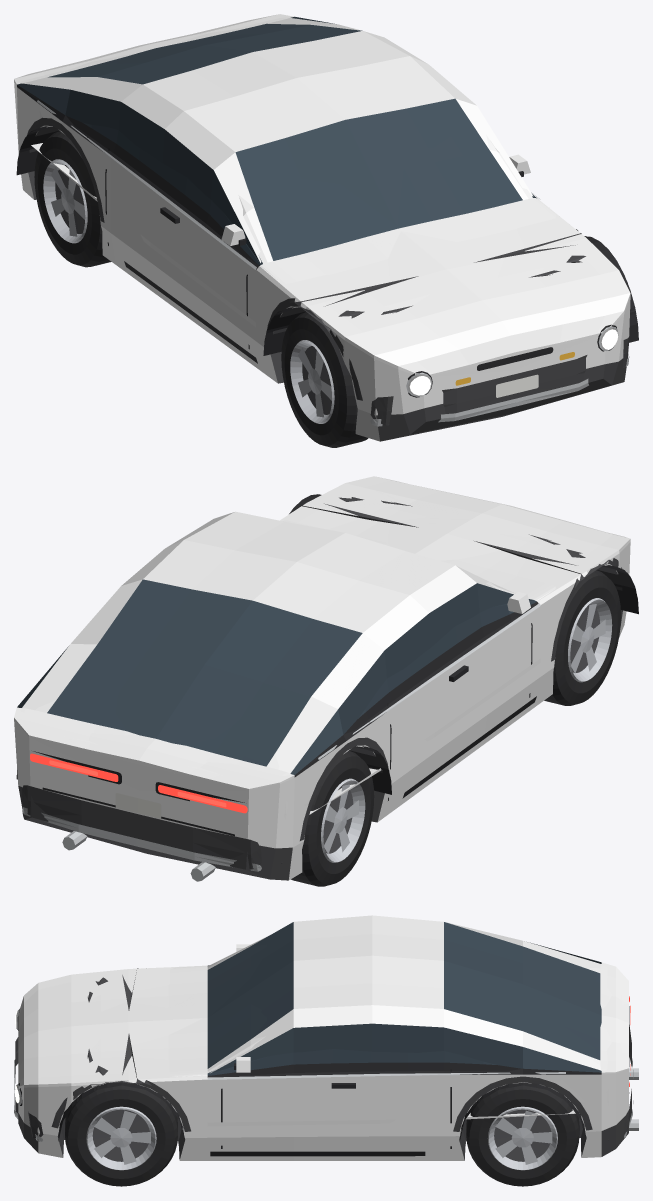
The model's file is lambari.glb.
The picture shows the model from 3 angles, top to bottom: view 1: azimuth 30°, elevation 25°; view 2: azimuth 150°, elevation 25°; view 3: azimuth 270°, elevation 25°; orthographic projection. The views are drawn at different scales.
Parts seen in each view (by area): view 1: body.001, glass.001, glass, body, details, wheel_fr, wheel_rr, wheel_wells.001, wheel_wells, lamp_head; view 2: body.001, glass.001, details, body, wheel_rr, wheel_fr, glass, wheel_wells.001, lamp_tail, lamp_tail.001; view 3: body.001, glass.001, body, wheel_fl, wheel_rl, glass, details, wheel_wells, wheel_wells.001.
Boxes of the visible parts, bbox=[...] form: body.001: bbox=[14, 14, 630, 441]; glass.001: bbox=[17, 16, 536, 265]; glass: bbox=[48, 23, 535, 265]; body: bbox=[16, 17, 598, 377]; details: bbox=[27, 100, 629, 426]; wheel_fr: bbox=[281, 312, 368, 447]; wheel_rr: bbox=[34, 131, 111, 267]; wheel_wells.001: bbox=[16, 126, 636, 355]; wheel_wells: bbox=[16, 126, 638, 352]; lamp_head: bbox=[406, 324, 618, 397]; body.001: bbox=[14, 476, 630, 880]; glass.001: bbox=[17, 579, 536, 774]; details: bbox=[22, 497, 622, 881]; body: bbox=[20, 505, 555, 863]; wheel_rr: bbox=[291, 751, 374, 886]; wheel_fr: bbox=[544, 570, 620, 705]; glass: bbox=[47, 599, 536, 766]; wheel_wells.001: bbox=[316, 494, 638, 794]; lamp_tail: bbox=[33, 751, 247, 812]; lamp_tail.001: bbox=[30, 753, 246, 813]; body.001: bbox=[18, 915, 628, 1160]; glass.001: bbox=[209, 922, 601, 1073]; body: bbox=[18, 944, 628, 1140]; wheel_fl: bbox=[65, 1085, 177, 1186]; wheel_rl: bbox=[466, 1085, 579, 1186]; glass: bbox=[207, 944, 600, 1075]; details: bbox=[14, 944, 638, 1156]; wheel_wells: bbox=[58, 1082, 585, 1140]; wheel_wells.001: bbox=[58, 1085, 585, 1141].
Bounding box in the file's own units: 1.97 × 1.38 × 4.36.
